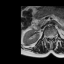CCS_normal: (50, 33, 51, 41)
LFS_normal: (53, 33, 55, 39)
LLS_normal: (51, 33, 53, 39)
RFS_normal: (46, 34, 48, 39)
RLS_normal: (48, 33, 50, 39)
